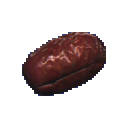ng: (15, 28, 116, 99)
